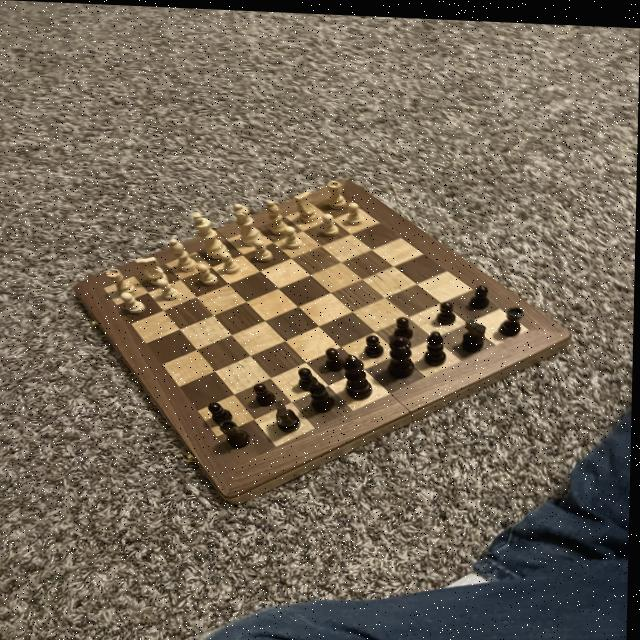bishop: (422, 323, 452, 365), (310, 377, 338, 414)
black-bishop: (342, 348, 376, 399)
black-king: (456, 313, 491, 350), (274, 396, 304, 433)
black-knight: (467, 278, 493, 307), (207, 399, 236, 424), (391, 311, 417, 337), (296, 363, 321, 390), (434, 296, 459, 322), (323, 341, 348, 367), (362, 329, 386, 355), (253, 381, 278, 404)
black-pawn: (386, 329, 417, 375)
black-queen: (220, 415, 255, 450), (495, 300, 529, 332)
black-rook: (168, 236, 201, 273), (264, 195, 291, 234)
white-king: (135, 254, 169, 286), (293, 184, 319, 221)
white-knight: (195, 259, 221, 286), (119, 290, 147, 315), (218, 248, 242, 275), (344, 196, 366, 225), (250, 236, 275, 260), (156, 276, 181, 300), (318, 208, 340, 235), (281, 222, 303, 249)
white-pawn: (190, 207, 231, 264), (230, 199, 267, 245)
white-queen: (104, 266, 138, 297), (325, 177, 351, 208)
